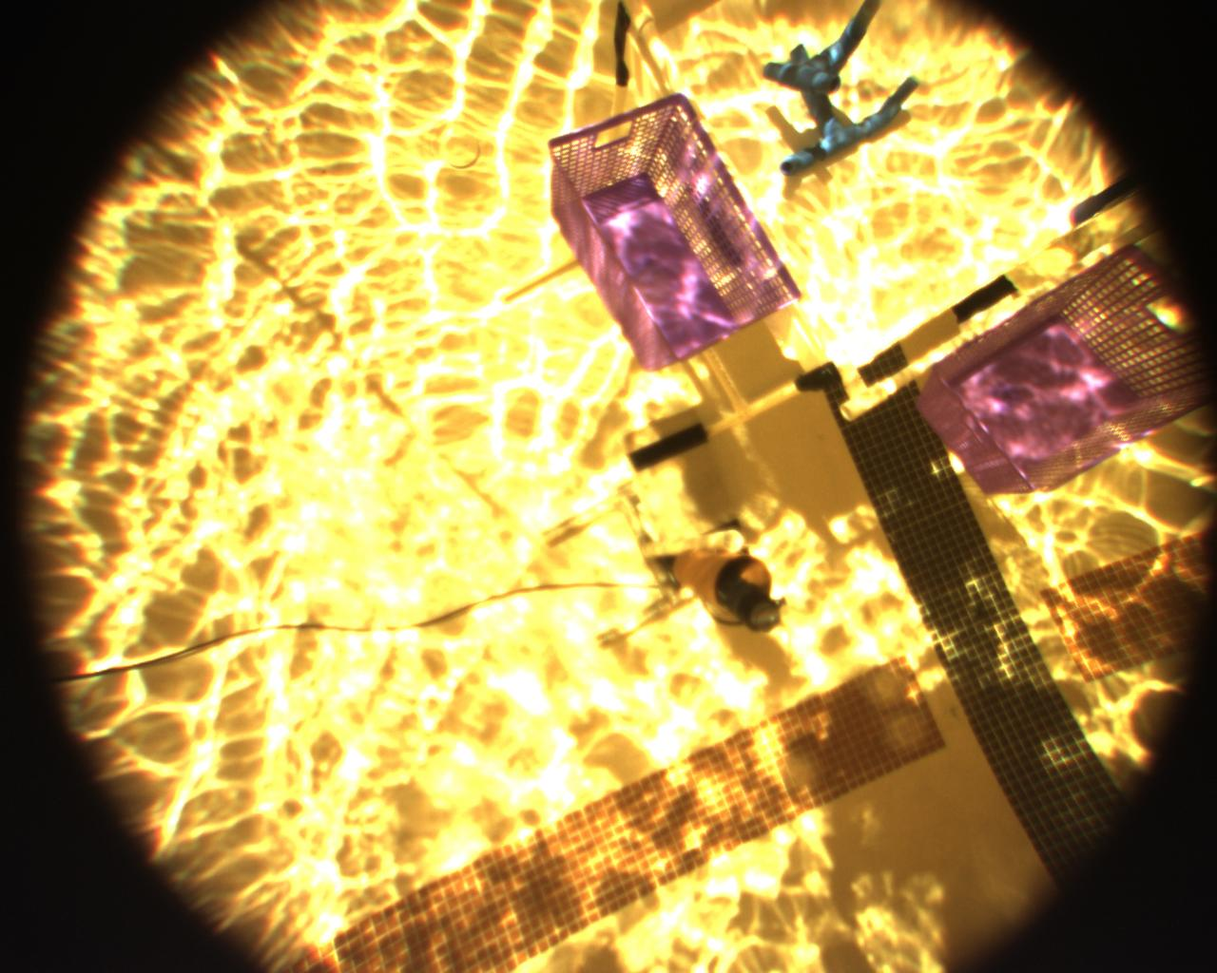coral-box-side: (757, 2, 926, 183)
coral-box-top: (616, 0, 1217, 454)
